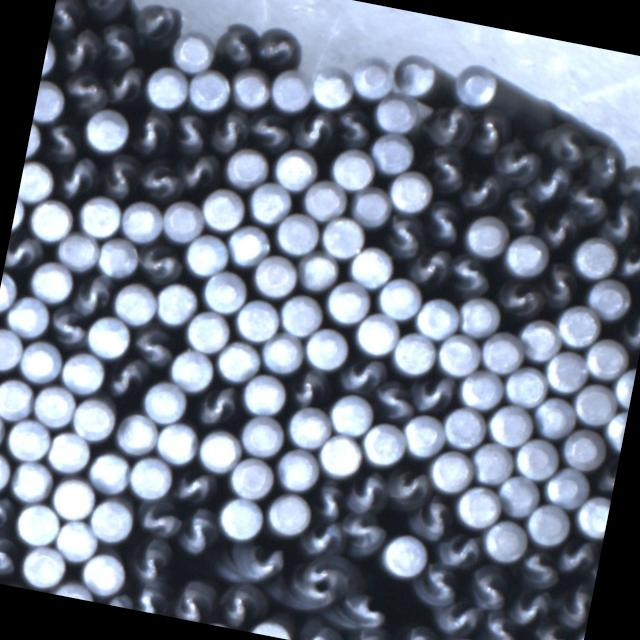tool: (391, 50, 442, 101), (381, 531, 432, 581), (139, 376, 189, 426), (70, 394, 120, 444), (354, 310, 404, 359), (324, 278, 374, 327), (359, 418, 408, 468), (199, 183, 249, 232), (252, 251, 302, 300), (452, 61, 502, 110), (232, 294, 282, 343), (86, 495, 136, 544), (59, 348, 110, 396), (17, 337, 66, 386), (127, 452, 176, 501), (82, 312, 132, 360), (217, 494, 267, 542), (346, 244, 396, 292), (504, 230, 554, 278), (486, 401, 536, 449), (48, 472, 98, 520), (15, 499, 65, 547), (20, 542, 70, 590), (480, 516, 530, 564), (76, 192, 126, 240), (82, 106, 132, 154), (433, 330, 482, 378), (144, 64, 193, 112), (318, 214, 367, 262), (26, 196, 75, 244), (111, 279, 160, 327), (31, 382, 79, 431), (512, 435, 561, 483), (201, 268, 250, 316), (524, 499, 573, 547), (387, 166, 436, 214), (426, 448, 475, 496), (375, 273, 424, 321), (462, 211, 510, 260), (3, 416, 52, 464), (183, 231, 232, 279), (514, 314, 563, 362), (454, 484, 504, 531), (78, 551, 128, 598), (554, 302, 604, 349), (300, 177, 350, 224), (118, 198, 166, 246), (414, 292, 462, 340), (184, 306, 232, 354), (274, 210, 322, 258), (169, 28, 217, 76), (276, 290, 324, 338), (154, 417, 202, 465), (304, 326, 352, 374), (392, 328, 440, 376), (328, 146, 376, 194), (223, 142, 271, 190), (582, 335, 630, 383), (544, 464, 592, 512), (572, 233, 620, 281), (225, 220, 273, 268), (309, 64, 357, 112), (326, 391, 374, 439), (285, 402, 333, 450), (368, 128, 416, 176), (154, 278, 201, 327), (272, 145, 321, 192), (29, 259, 78, 306), (458, 365, 507, 412), (316, 431, 364, 478), (502, 363, 550, 410), (161, 197, 208, 245), (266, 491, 314, 538), (197, 426, 244, 474), (479, 328, 526, 376), (240, 413, 288, 460), (442, 404, 490, 451), (247, 178, 294, 226), (114, 409, 162, 456), (169, 346, 218, 392), (241, 372, 290, 418), (586, 276, 635, 322), (188, 66, 235, 113), (87, 447, 134, 494), (402, 412, 449, 459), (9, 457, 56, 504), (96, 232, 142, 280), (5, 294, 53, 340), (229, 456, 277, 502), (572, 380, 618, 428), (471, 439, 517, 487), (55, 516, 102, 562), (215, 338, 262, 384), (47, 428, 94, 474), (268, 68, 315, 114), (259, 329, 306, 375), (543, 348, 590, 394), (494, 473, 540, 520), (456, 293, 502, 339), (276, 446, 322, 492), (562, 426, 608, 472), (532, 395, 578, 441), (228, 65, 274, 110), (350, 186, 396, 231), (56, 228, 102, 272), (297, 250, 342, 294), (374, 94, 421, 136), (0, 374, 37, 422), (574, 492, 612, 538), (18, 159, 56, 204), (33, 80, 68, 125), (50, 578, 99, 602), (0, 326, 25, 373), (247, 616, 295, 640), (603, 408, 628, 450), (612, 364, 636, 406), (0, 271, 20, 314), (41, 34, 60, 78), (25, 118, 44, 161), (11, 192, 29, 236), (0, 446, 15, 495)
tool_b: (283, 553, 344, 616), (216, 536, 287, 590), (422, 99, 476, 151), (337, 510, 388, 561), (214, 580, 266, 630), (254, 22, 306, 72), (126, 105, 174, 158), (175, 506, 222, 560), (133, 0, 186, 47), (412, 560, 462, 609), (52, 152, 100, 203), (128, 536, 175, 588), (584, 132, 630, 185), (338, 589, 392, 634), (343, 468, 391, 518), (172, 574, 220, 624), (490, 138, 539, 186), (546, 122, 594, 171), (446, 251, 494, 299), (422, 196, 468, 246), (194, 380, 240, 430), (128, 324, 178, 370), (136, 154, 183, 202), (216, 20, 262, 69), (96, 21, 142, 70), (371, 377, 418, 424), (69, 272, 115, 320), (466, 563, 512, 611), (104, 355, 150, 403), (98, 150, 142, 200), (60, 26, 104, 76), (134, 240, 184, 284), (539, 262, 583, 312), (44, 304, 91, 350), (498, 188, 544, 235), (424, 145, 469, 193), (134, 499, 184, 542), (408, 242, 454, 288), (506, 584, 552, 630), (564, 178, 610, 224), (409, 370, 456, 415), (434, 530, 482, 574), (178, 149, 222, 197), (104, 61, 148, 109), (408, 494, 452, 542), (245, 109, 294, 152), (338, 352, 384, 397), (516, 544, 562, 589), (168, 110, 212, 157), (168, 466, 215, 510), (298, 520, 345, 564), (209, 106, 252, 154), (62, 68, 108, 112), (384, 465, 430, 509), (530, 160, 574, 206), (293, 107, 337, 153), (458, 171, 504, 215), (42, 118, 86, 164), (433, 597, 481, 639), (382, 212, 425, 258), (554, 583, 594, 632), (498, 279, 544, 321), (332, 106, 374, 150), (470, 110, 510, 156), (600, 197, 640, 243), (538, 207, 580, 249), (290, 366, 330, 410), (122, 581, 172, 616), (5, 232, 42, 274), (312, 482, 348, 524), (558, 539, 596, 578), (475, 609, 519, 640), (73, 0, 130, 21), (50, 0, 82, 36), (615, 244, 640, 285), (296, 619, 344, 640), (0, 531, 21, 578), (619, 309, 640, 354), (619, 161, 640, 206), (594, 462, 618, 500), (534, 621, 577, 640), (397, 622, 442, 640), (0, 490, 16, 539), (351, 628, 394, 640)
